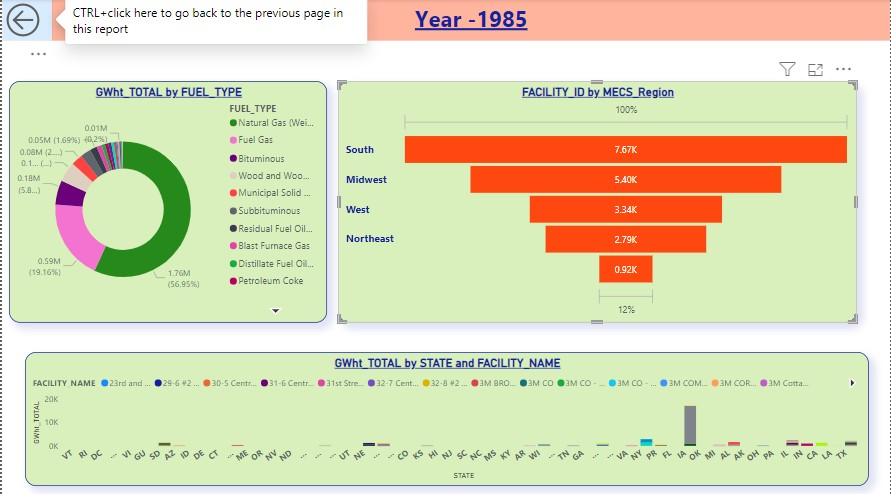

Layout of this report page (visuals, bound fields, positions):
{"tool":"powerbi","page":{"name":"1985 year","canvas":[1280,720],"ordinal":3},"visuals":[{"type":"donutChart","fields":{"Category":["data_1.FUEL_TYPE"],"Y":["Sum(data_1.GWht_TOTAL)"]},"box":[9.8,118.6,458.4,348.4],"z":0},{"type":"funnel","fields":{"Category":["data_1.MECS_Region"],"Y":["CountNonNull(data_1.FACILITY_ID)"]},"box":[484.1,118.6,746.9,348.4],"z":1000},{"type":"actionButton","box":[0,0,72.7,60.4],"z":2000},{"type":"columnChart","fields":{"Category":["data_1.STATE"],"Series":["data_1.FACILITY_NAME"],"Y":["Sum(data_1.GWht_TOTAL)"]},"box":[33,508.5,1215.1,193.1],"z":3000},{"type":"textbox","box":[72.7,0,1207.3,60.4],"z":4000}]}

Visuals, with their boxes in screenshot pixels (x1, y1, x2, y2), scaled from the page's 1280x720 canvas onto the 891x494 screenshot:
donutChart - data_1.FUEL_TYPE x Sum(data_1.GWht_TOTAL): x1=7, y1=81, x2=326, y2=320
funnel - data_1.MECS_Region x CountNonNull(data_1.FACILITY_ID): x1=337, y1=81, x2=857, y2=320
actionButton: x1=0, y1=0, x2=51, y2=41
columnChart - data_1.STATE x data_1.FACILITY_NAME: x1=23, y1=349, x2=869, y2=481
textbox: x1=51, y1=0, x2=890, y2=41
